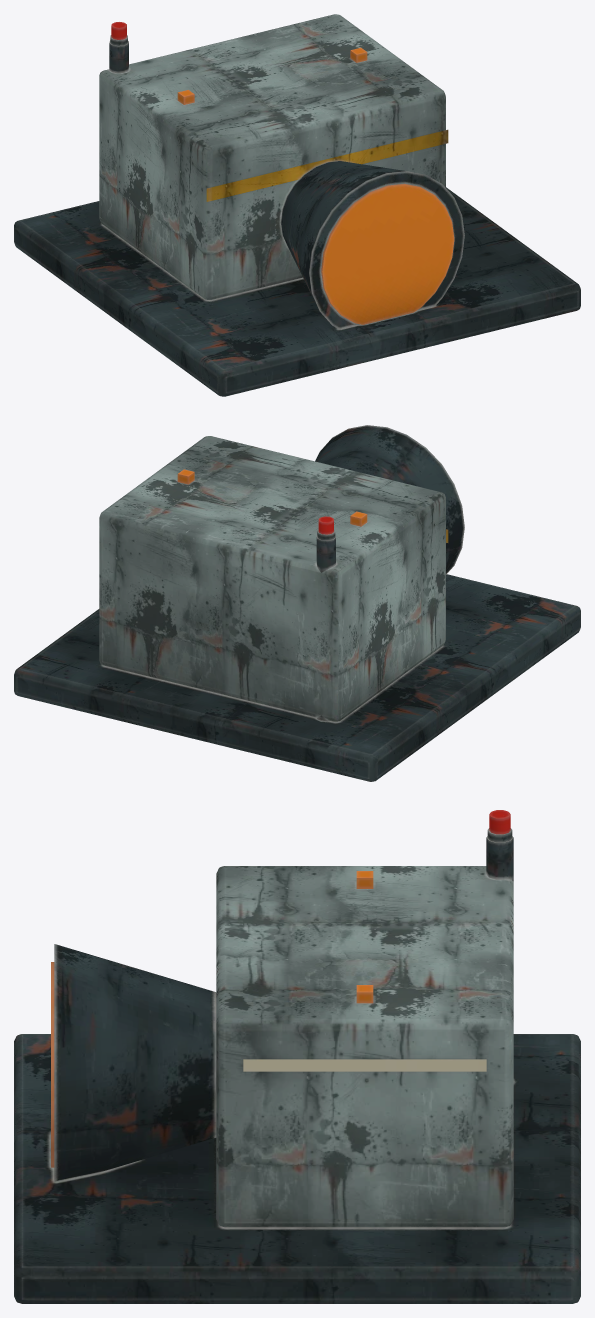
File: chemical_thruster.glb
3 views of the same model, one above another, from view 1: azimuth 30°, elevation 25°; view 2: azimuth 150°, elevation 25°; view 3: azimuth 270°, elevation 25° (orthographic). The views are drawn at different scales.
Visible parts, largest first — view 1: te_chemical_thruster; view 2: te_chemical_thruster; view 3: te_chemical_thruster.
Part boxes in pixels (box(x1,y1,x2,y2)): te_chemical_thruster: box(14, 14, 580, 396); te_chemical_thruster: box(14, 425, 580, 781); te_chemical_thruster: box(14, 810, 580, 1303).
Bounding box in the file's own units: 0.84 × 0.4976 × 0.84.
1 material, 1 textured.
